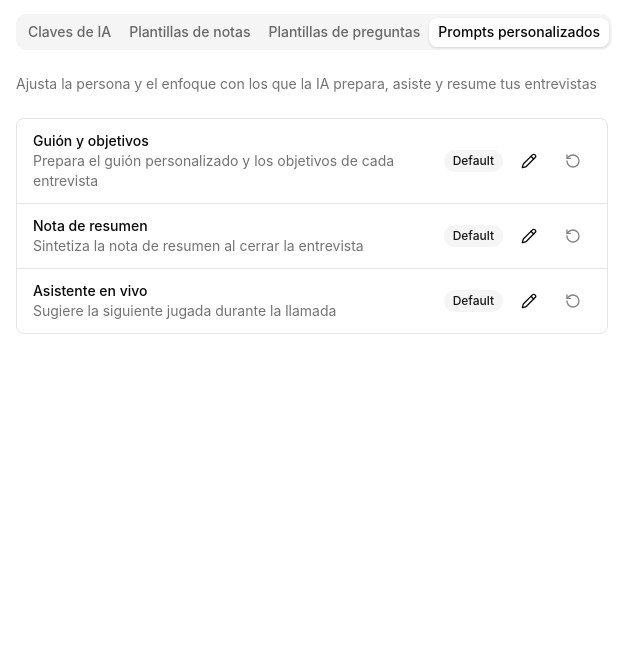
Test case: CustomPromptItem › accordion listing › expands the item in-place on pencil click showing the WYSIWYG editor with the current text and its toolbar
Step 1. Click the button named "Editar prompt" in the row of "Guión y objetivos" → (529, 161), box [511,143,547,179]
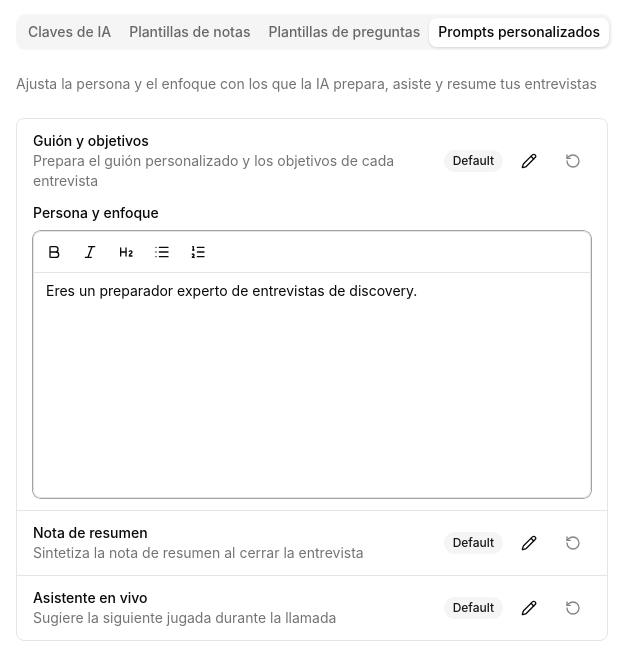
Result: the text box "Eres un preparador experto de entrevistas de discovery." is shown at [46,282,417,299]
Result: the button named "Negrita" is shown at [38,236,70,268]
Result: the button named "Cursiva" is shown at [74,236,106,268]
